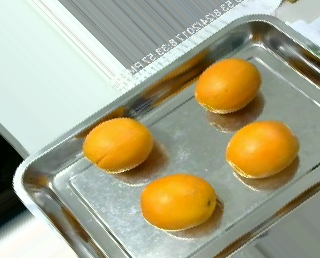Orange: (225, 119, 301, 179), (140, 174, 218, 231), (82, 116, 153, 174), (195, 57, 263, 113)
